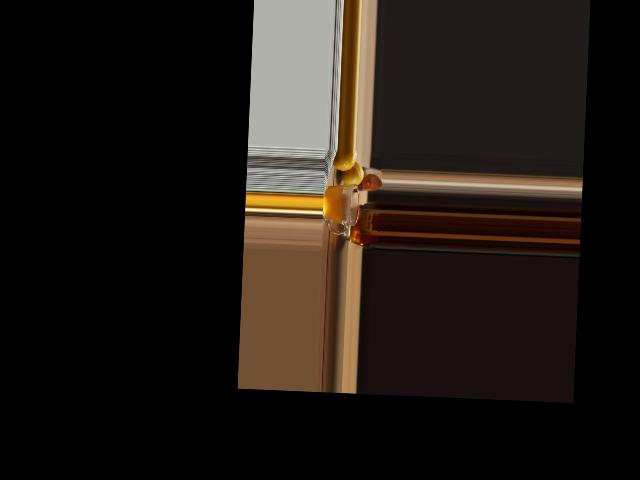lemon: (333, 149, 354, 168)
